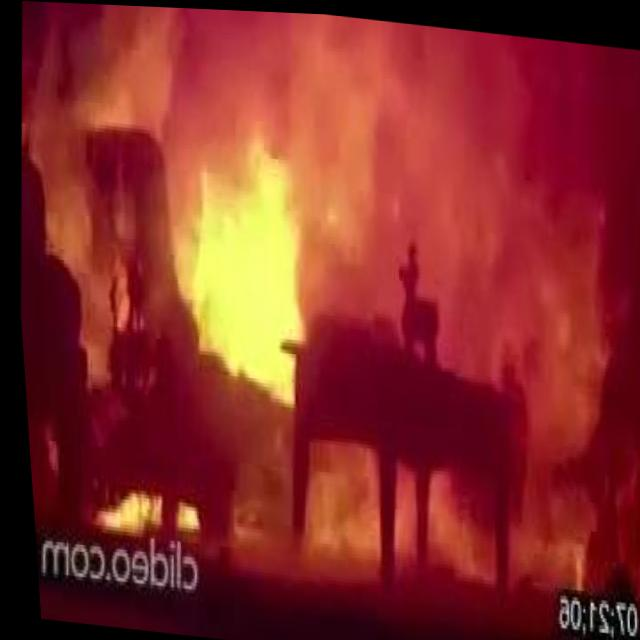fire: (479, 112, 636, 586), (145, 119, 318, 389), (288, 15, 453, 238), (20, 1, 216, 174), (60, 192, 162, 387), (212, 405, 295, 570), (296, 436, 379, 575), (414, 469, 488, 580), (67, 479, 156, 538), (385, 462, 415, 564), (165, 495, 195, 537)
